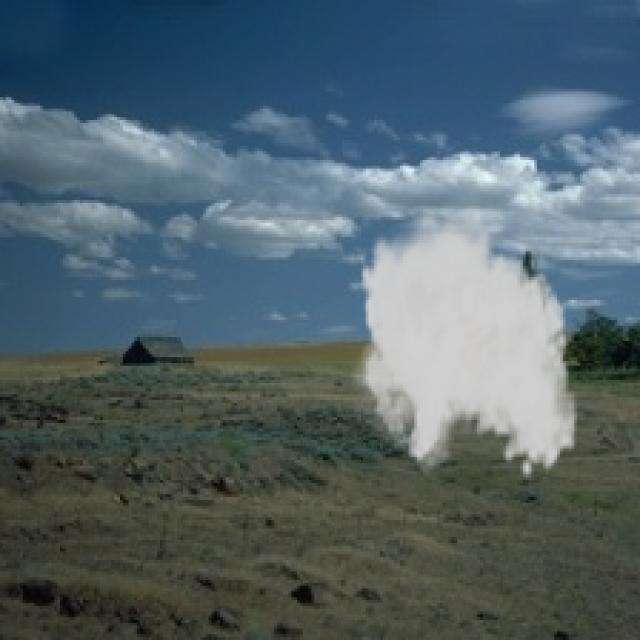smoke: (346, 197, 580, 480)
